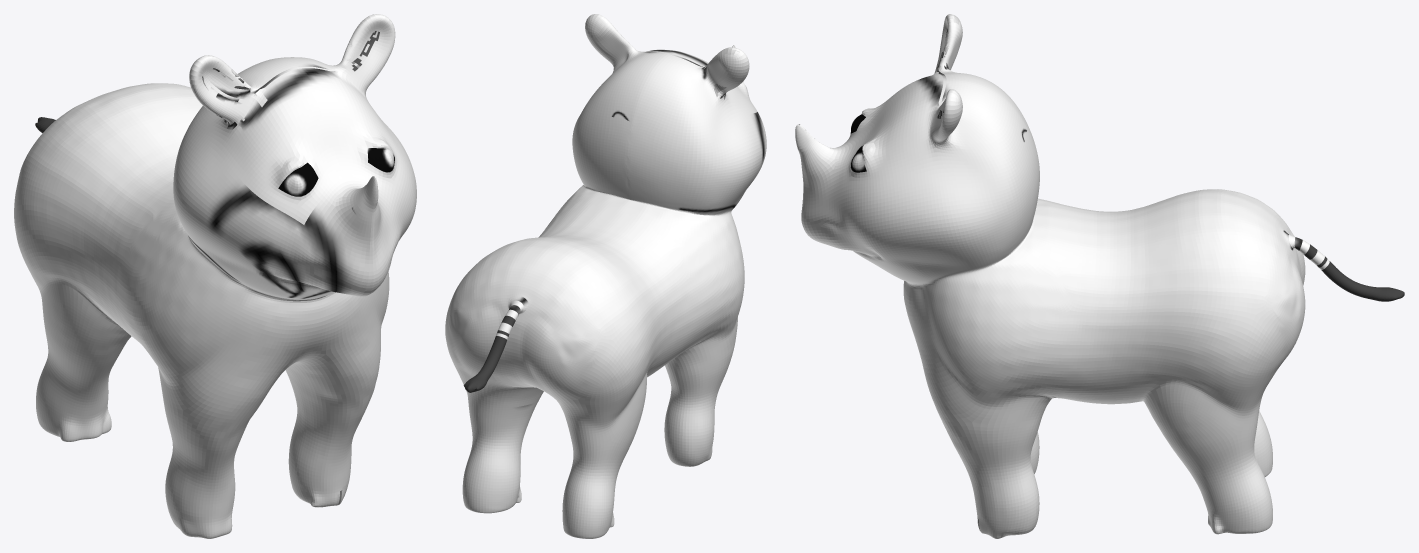
Rendered from rhino4.fbx.
3 renders of one model, left to right at view 1: azimuth 30°, elevation 25°; view 2: azimuth 150°, elevation 25°; view 3: azimuth 270°, elevation 25°, orthographic. The views are drawn at different scales.
Parts seen in each view (by area): view 1: Rhino4; view 2: Rhino4; view 3: Rhino4.
Boxes of the visible parts, bbox=[...] form: Rhino4: bbox=[14, 14, 416, 538]; Rhino4: bbox=[445, 14, 766, 538]; Rhino4: bbox=[795, 14, 1404, 538].
Bounding box in the file's own units: 414 × 851 × 1037.
1 material, 1 textured.
